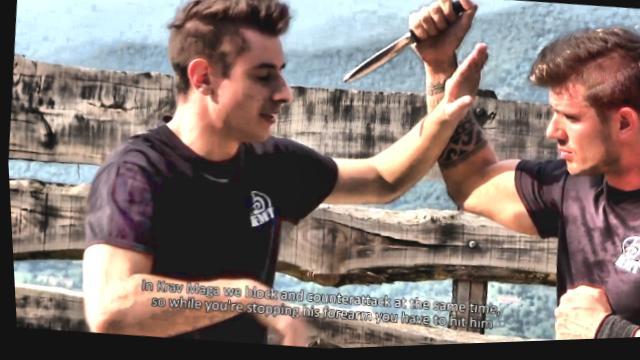knife: (333, 0, 483, 101)
